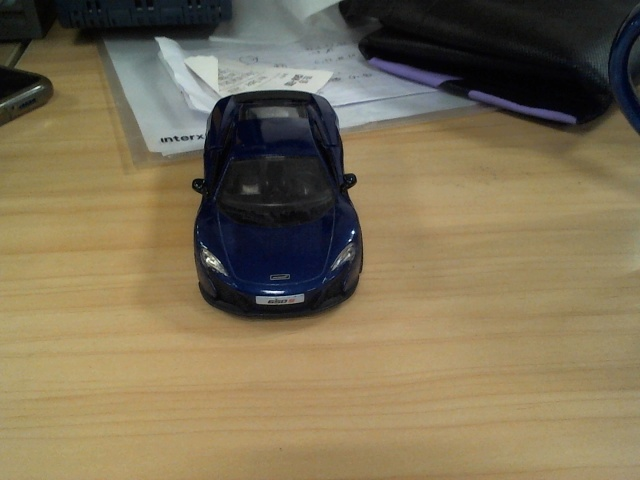car: (191, 89, 364, 319)
